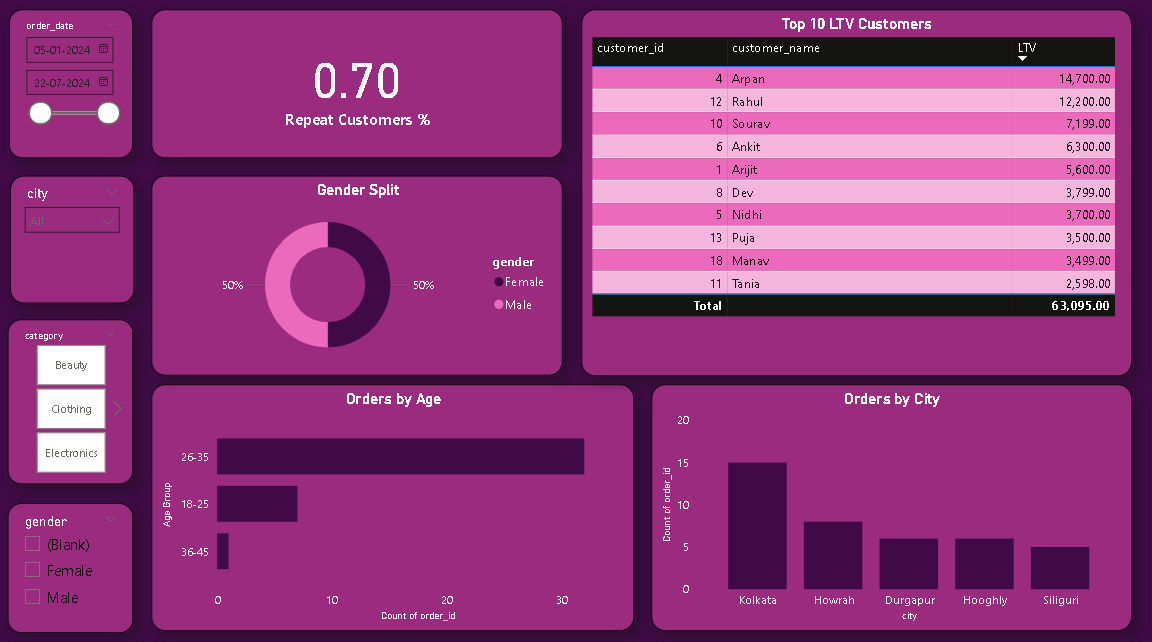

The dashboard page shown, as its layout file describes it:
{"tool":"powerbi","page":{"name":"Customer Insights","canvas":[1280,720],"ordinal":1},"visuals":[{"type":"donutChart","title":"Gender Split","fields":{"Category":["customers.gender"],"Y":["CountNonNull(customers.customer_id)"]},"box":[167.4,201.7,451.5,219.6],"z":0},{"type":"barChart","title":"Orders by Age","fields":{"Y":["CountNonNull(orders.order_id)"],"Category":["customers.Age Group"]},"box":[167.4,430.9,529.7,270.3],"z":1},{"type":"tableEx","title":"Top 10 LTV Customers","fields":{"Values":["customers.customer_id","customers.customer_name","DateTable.LTV"]},"box":[639.5,19.2,603.8,402.1],"z":2},{"type":"card","fields":{"Values":["DateTable.Repeat Customers %"]},"box":[167.4,19.2,451.5,163.3],"z":3},{"type":"columnChart","title":"Orders by City","fields":{"Category":["customers.city"],"Y":["CountNonNull(orders.order_id)"]},"box":[716.3,430.9,526.9,270.3],"z":4},{"type":"slicer","fields":{"Values":["products.category"]},"box":[9.6,359.5,137.2,181.1],"z":6},{"type":"slicer","fields":{"Values":["customers.gender"]},"box":[9.6,561.2,137.2,142.7],"z":7},{"type":"slicer","fields":{"Values":["customers.city"]},"box":[12.3,201.7,135.8,140],"z":8},{"type":"slicer","fields":{"Values":["orders.order_date"]},"box":[11,19.2,135.8,163.3],"z":9}]}

Visuals, with their boxes in screenshot pixels (x1, y1, x2, y2), scaled from the page's 1280x720 canvas onto the 1152x642 screenshot:
"Gender Split" donutChart: [x1=151, y1=180, x2=557, y2=376]
"Orders by Age" barChart: [x1=151, y1=384, x2=627, y2=625]
"Top 10 LTV Customers" tableEx: [x1=576, y1=17, x2=1119, y2=376]
card - DateTable.Repeat Customers %: [x1=151, y1=17, x2=557, y2=163]
"Orders by City" columnChart: [x1=645, y1=384, x2=1119, y2=625]
slicer - products.category: [x1=9, y1=321, x2=132, y2=482]
slicer - customers.gender: [x1=9, y1=500, x2=132, y2=628]
slicer - customers.city: [x1=11, y1=180, x2=133, y2=305]
slicer - orders.order_date: [x1=10, y1=17, x2=132, y2=163]
